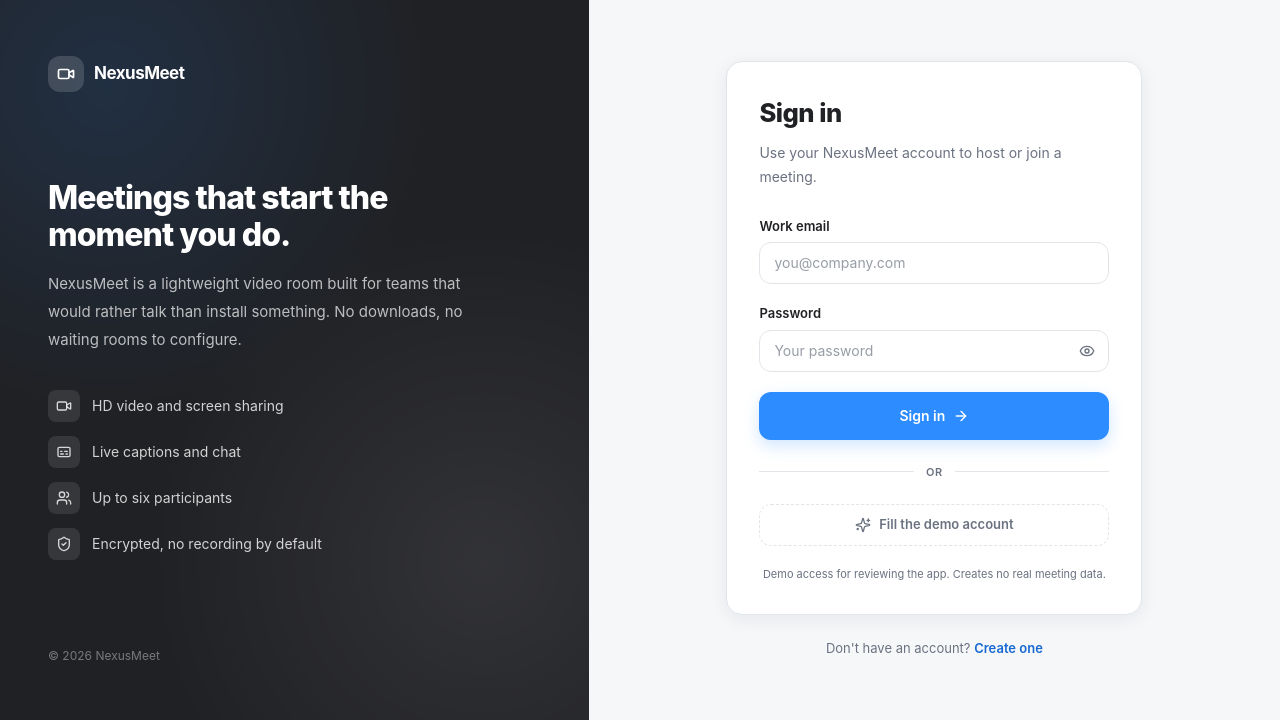
SignInForm › toggles password visibility without losing the value
Type "demo12345" into the password field labelled "Password" at (934, 351), box [759,330,1109,372]
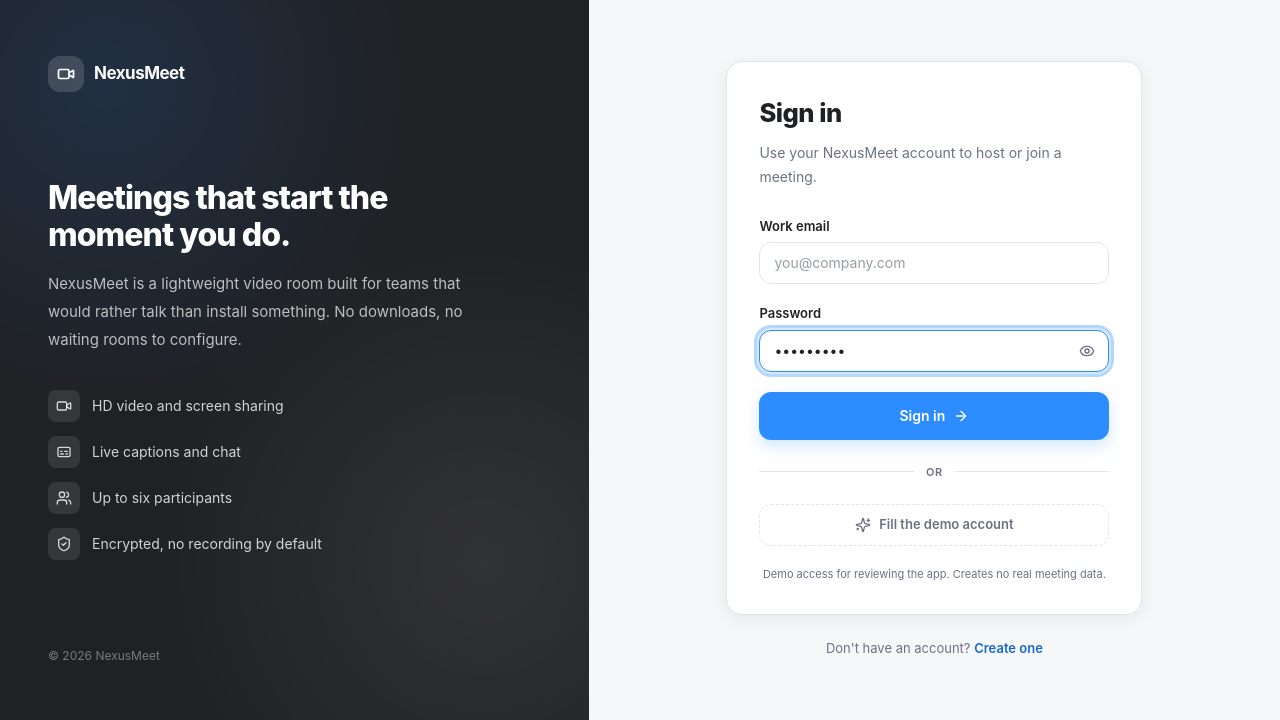
Click the button named "show password" at (1087, 351), box [1065,330,1109,372]
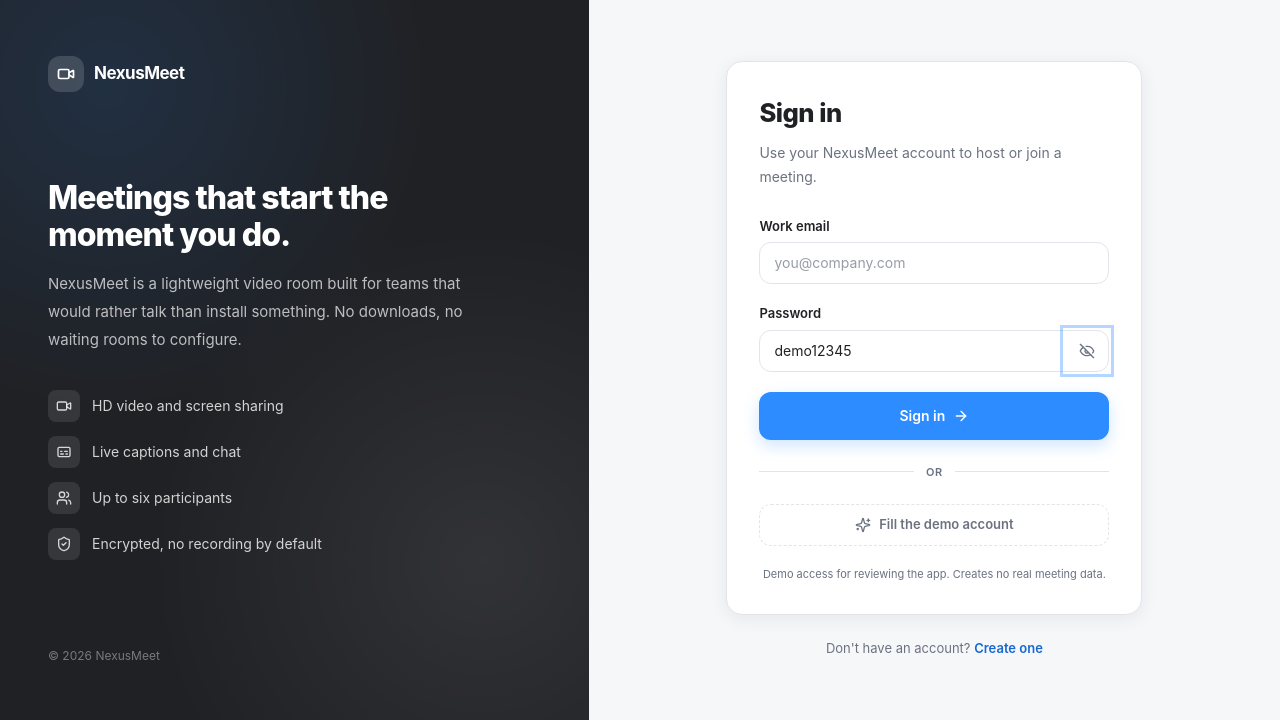
expect the field labelled "Password" shows its text: met, box [759,330,1109,372]
Click the button named "hide password" at (1087, 351), box [1065,330,1109,372]
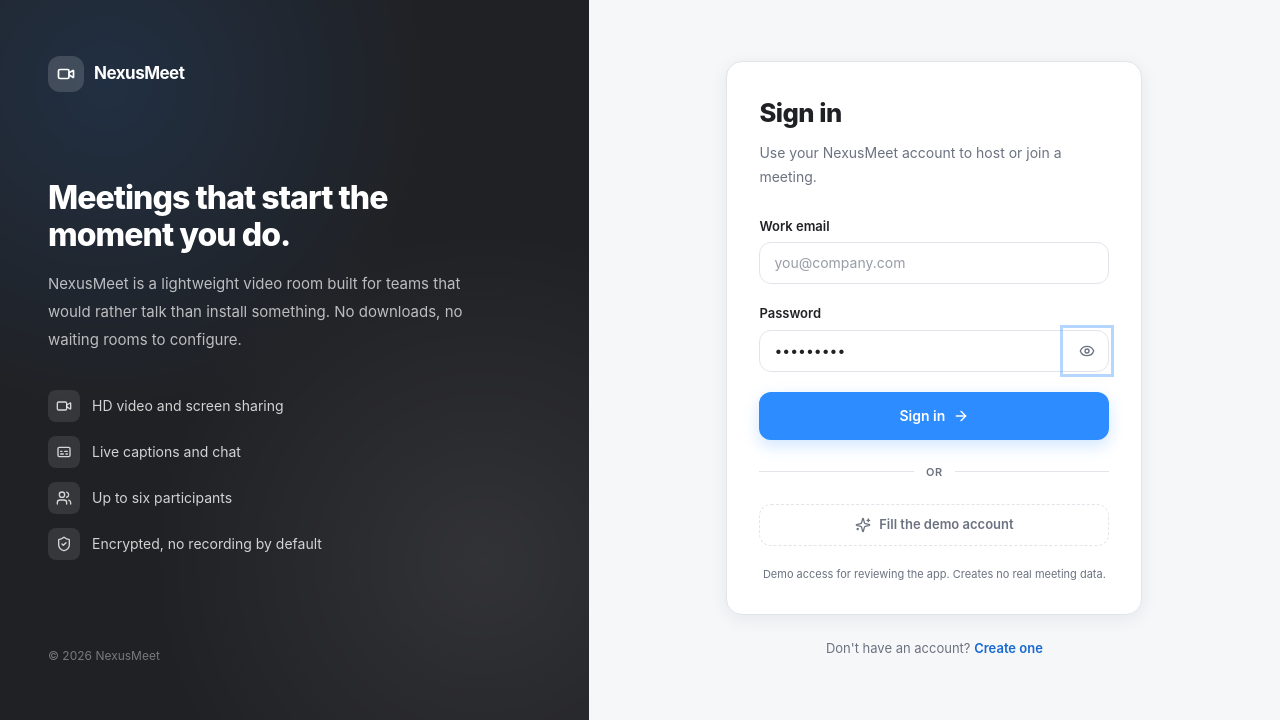
expect the password field labelled "Password" hides its text: met, box [759,330,1109,372]
